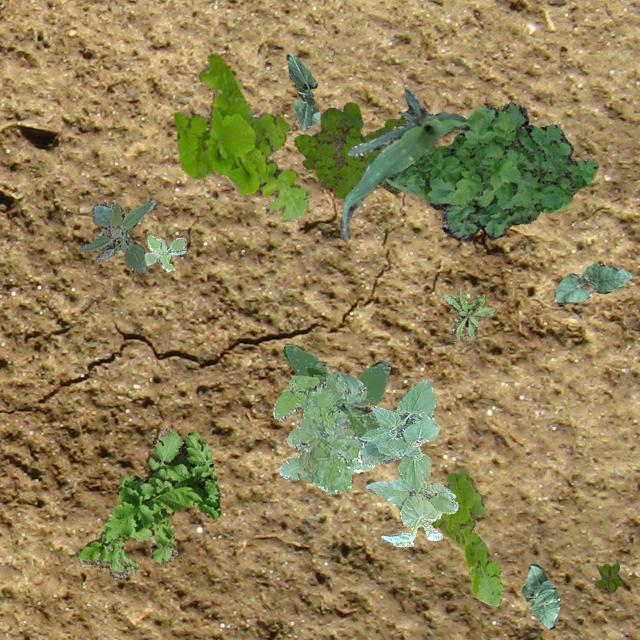crop: (338, 88, 466, 240), (358, 378, 457, 546), (554, 262, 632, 304), (520, 562, 560, 630), (286, 52, 318, 130)
weed: (384, 100, 598, 240), (172, 52, 308, 222), (74, 426, 220, 578), (272, 371, 374, 494), (292, 101, 406, 198), (282, 343, 389, 438), (430, 468, 502, 606), (80, 198, 156, 274), (442, 288, 494, 342), (143, 233, 185, 270), (594, 562, 622, 592)
